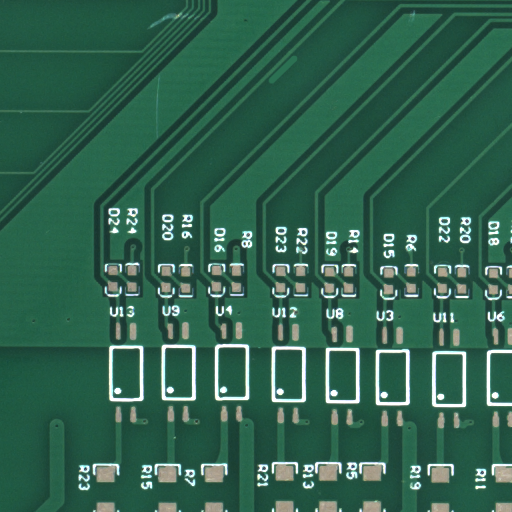Spurious_copper: (282, 68, 313, 97)
